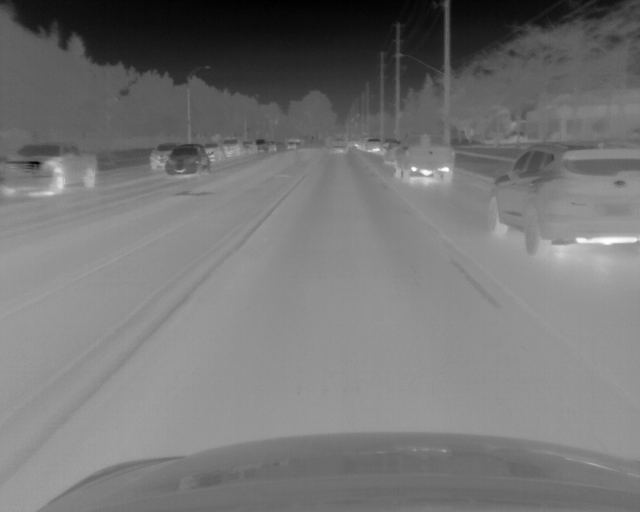car: (485, 141, 640, 259), (1, 141, 98, 197), (394, 133, 454, 184), (165, 145, 209, 173), (149, 142, 176, 167), (223, 137, 243, 157), (204, 143, 223, 161), (330, 136, 350, 153), (384, 142, 398, 164), (363, 138, 380, 153), (244, 140, 257, 154)
